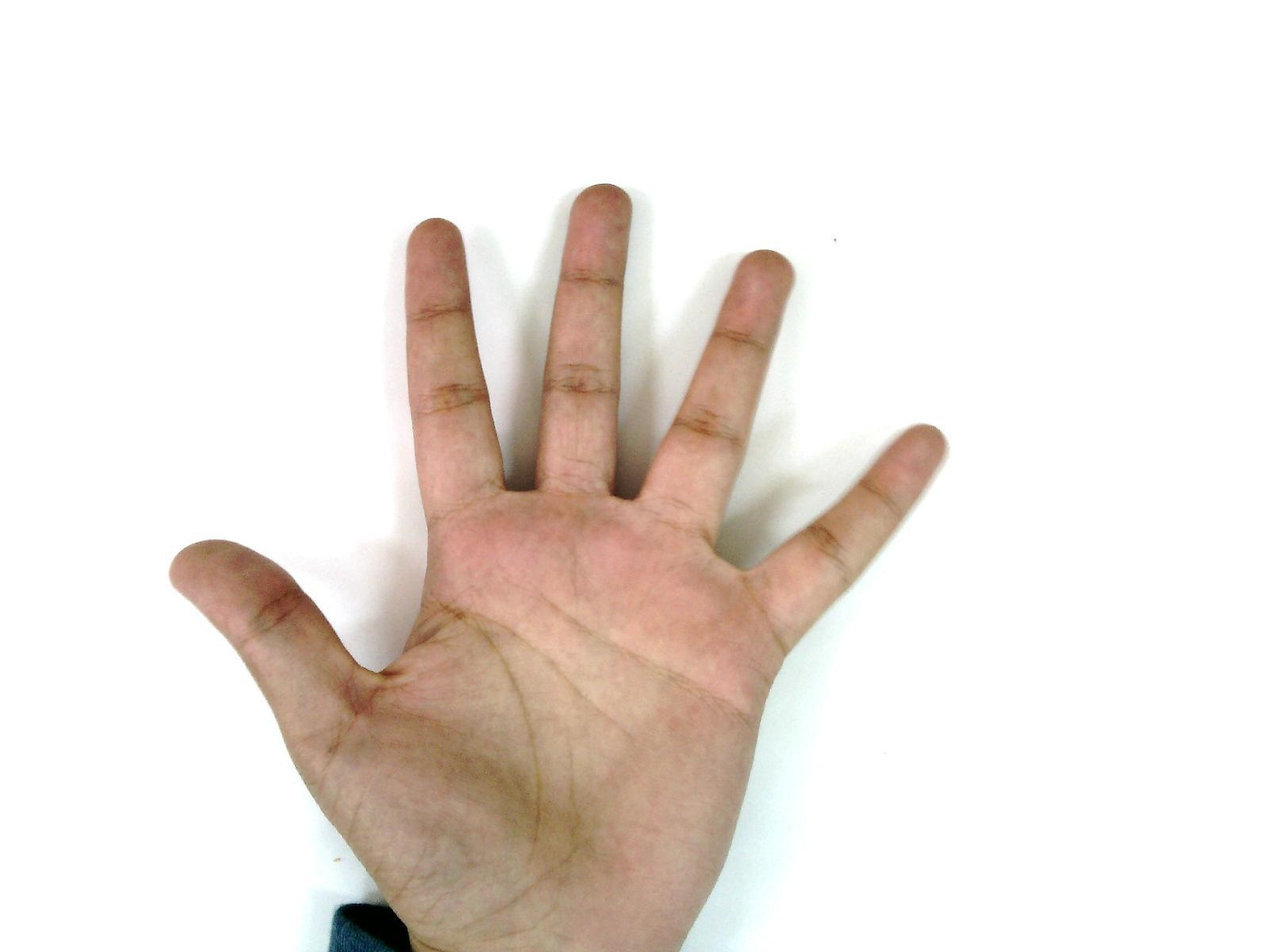open_palm: (167, 182, 952, 951)
